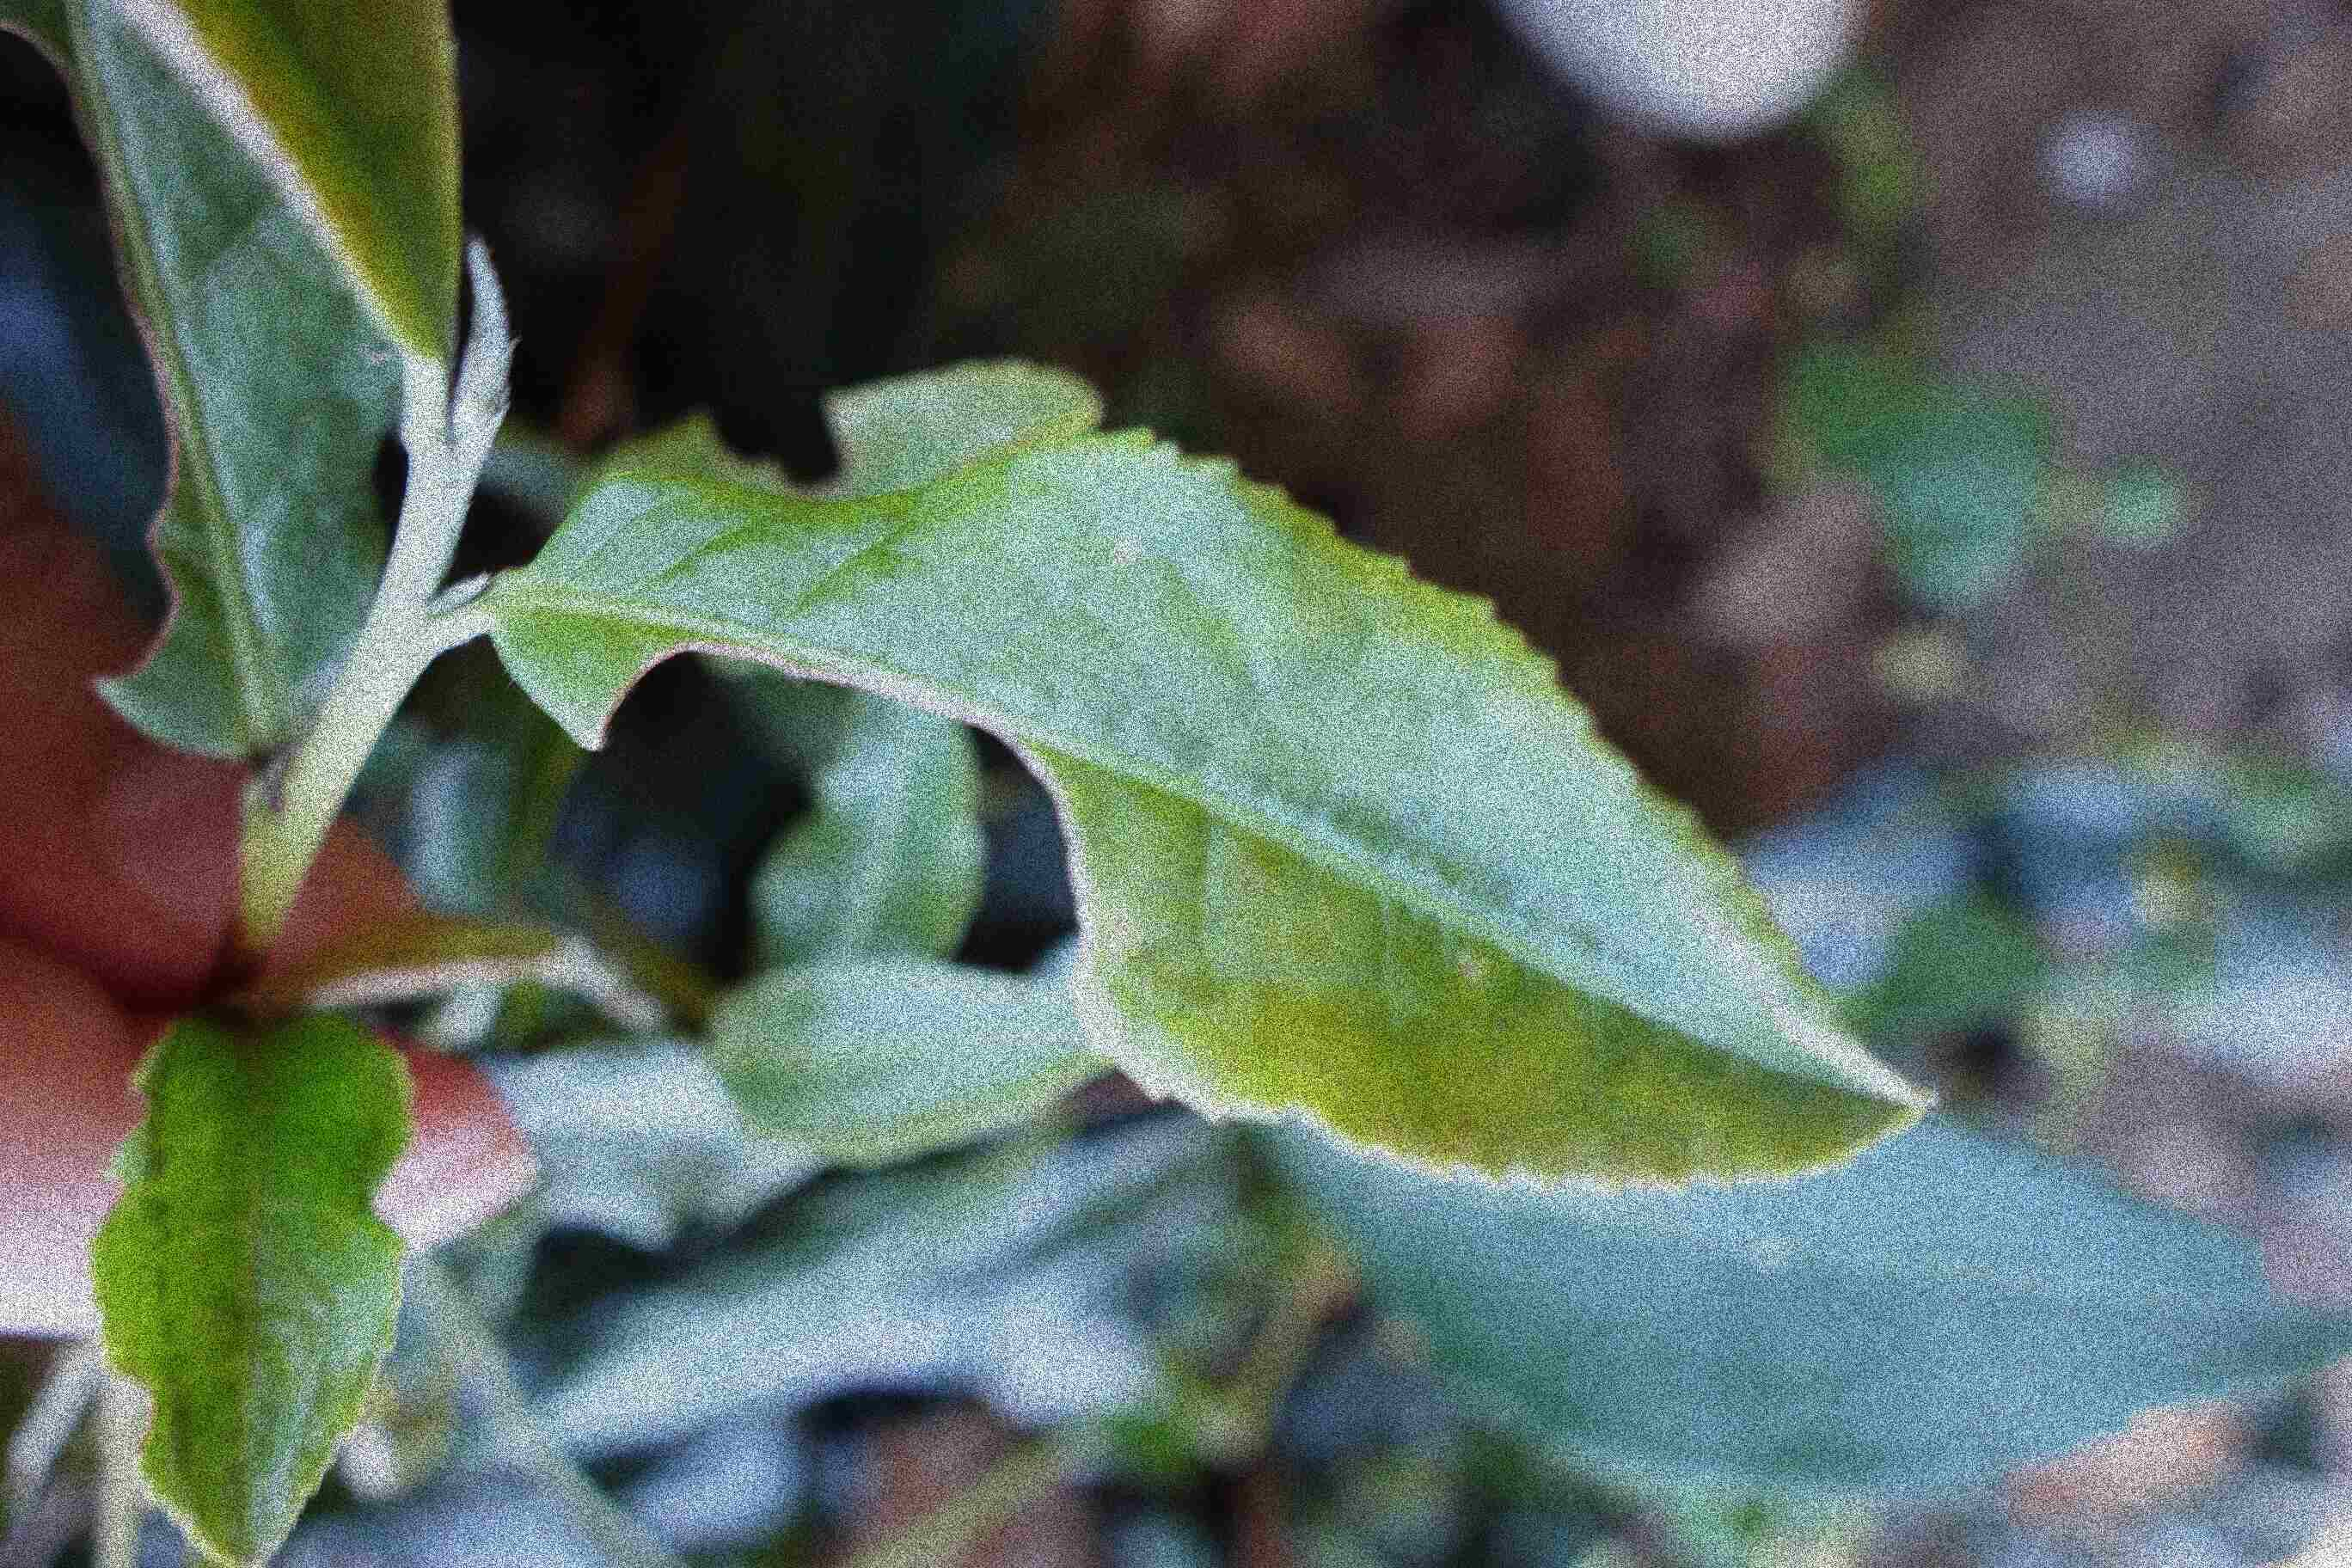chihuo_high: (0, 0, 462, 759)
chihuo_low: (488, 422, 1939, 1200), (87, 1006, 413, 1563), (558, 359, 1111, 541)
